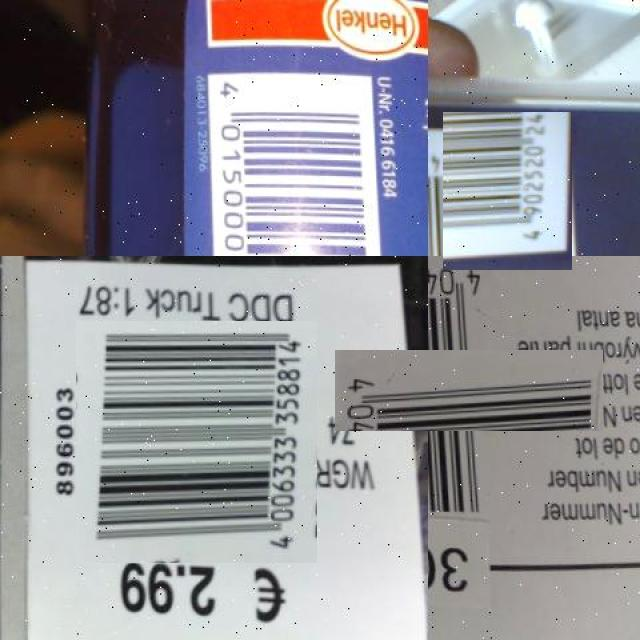Barcode: (76, 321, 317, 564), (208, 65, 393, 256), (381, 303, 556, 478), (436, 119, 579, 264)
